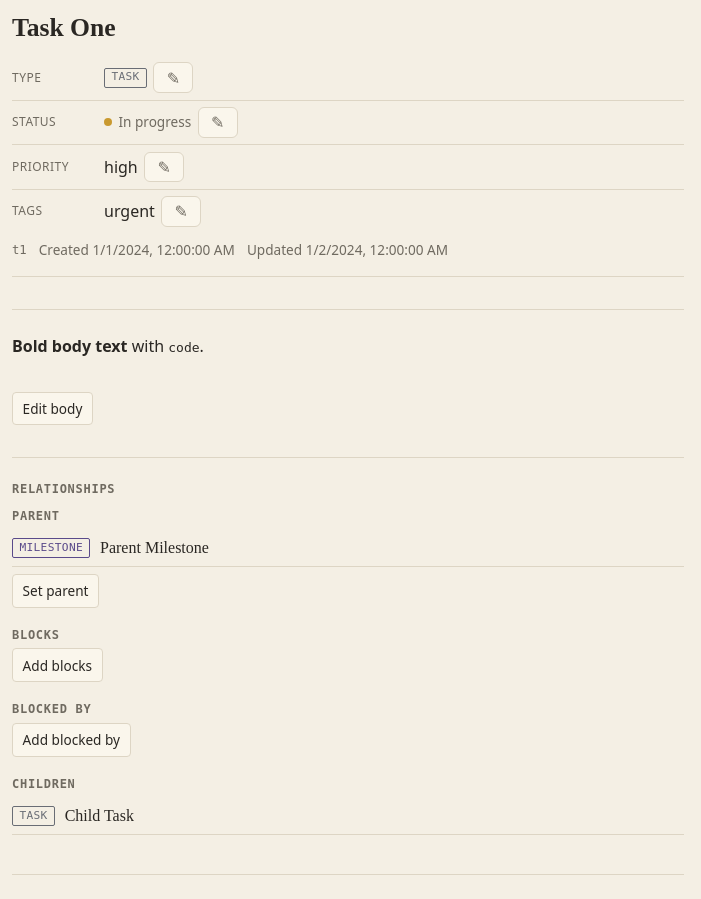
Test: BeanDetailPage › cancels body edits without saving
This screenshot has width=701, height=899.
Click the button "Edit body": (52, 408) [12,392,93,425]
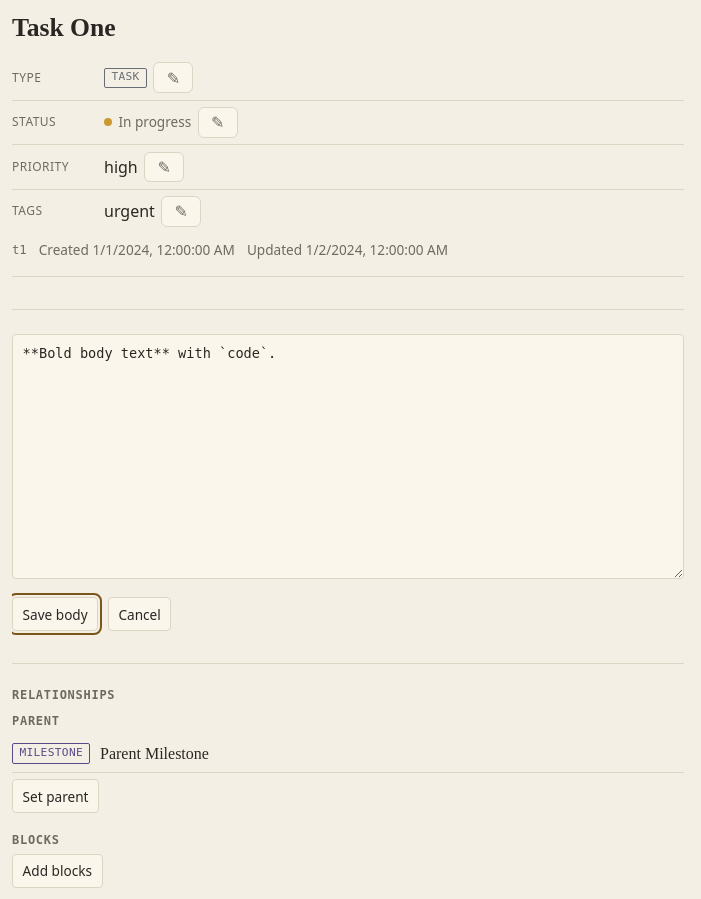
Click the button "Cancel": (140, 614) [108,597,171,631]
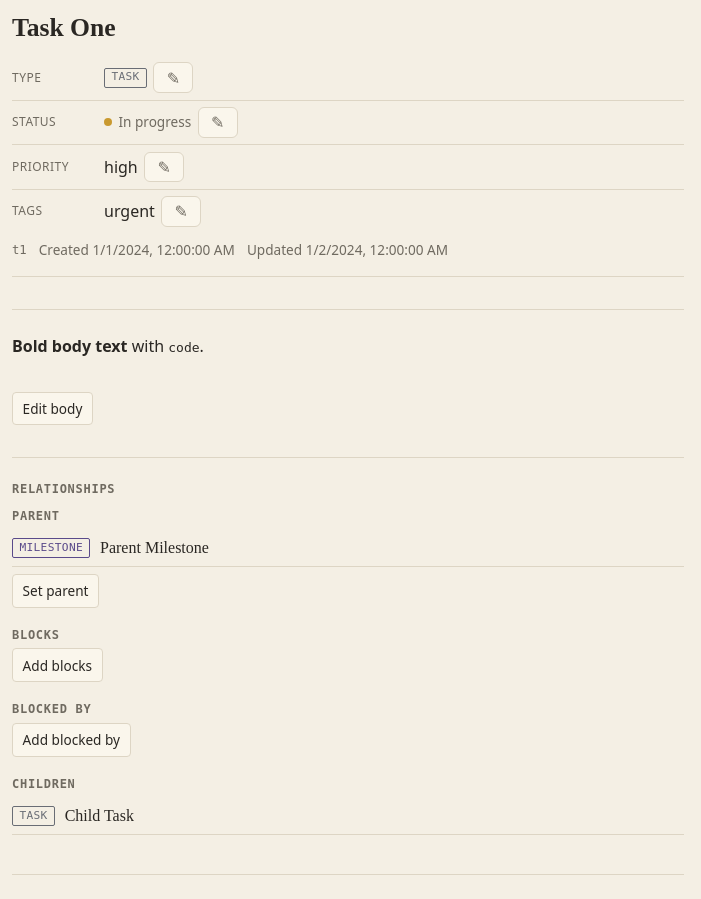
Result: the button "Edit body" is shown at [12,392,93,425]
